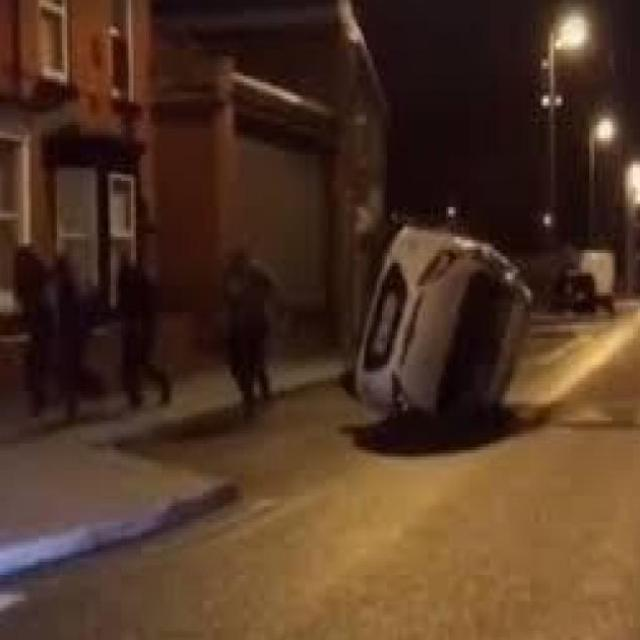accident: (333, 209, 535, 445)
